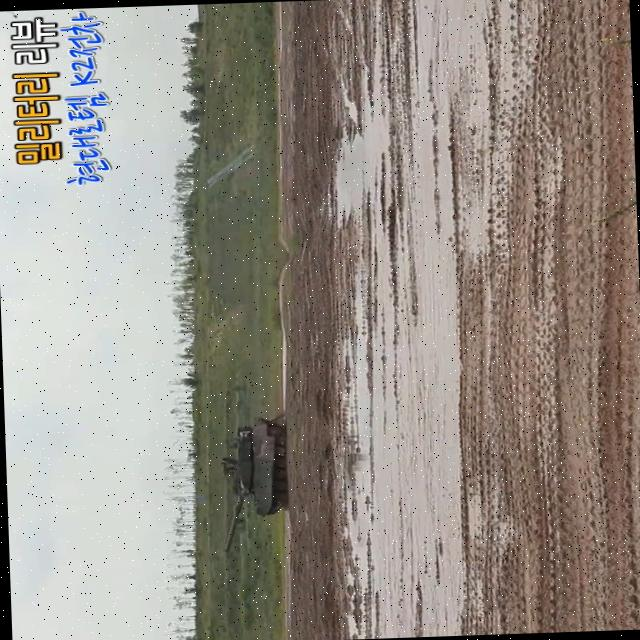korea tank: (211, 414, 289, 552)
